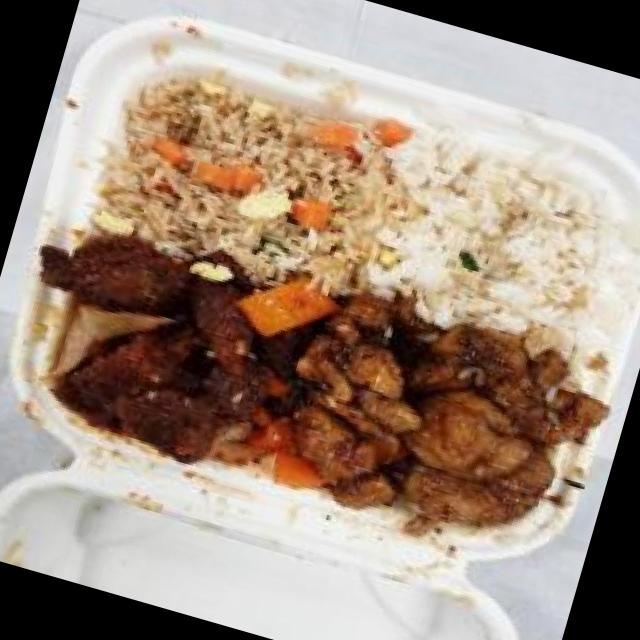Beijing Beef: (0, 205, 335, 490)
Fried Rice: (81, 47, 412, 299)
The Original Orange Chicken: (270, 284, 624, 580)
White Steamed Rice: (350, 127, 630, 361)
